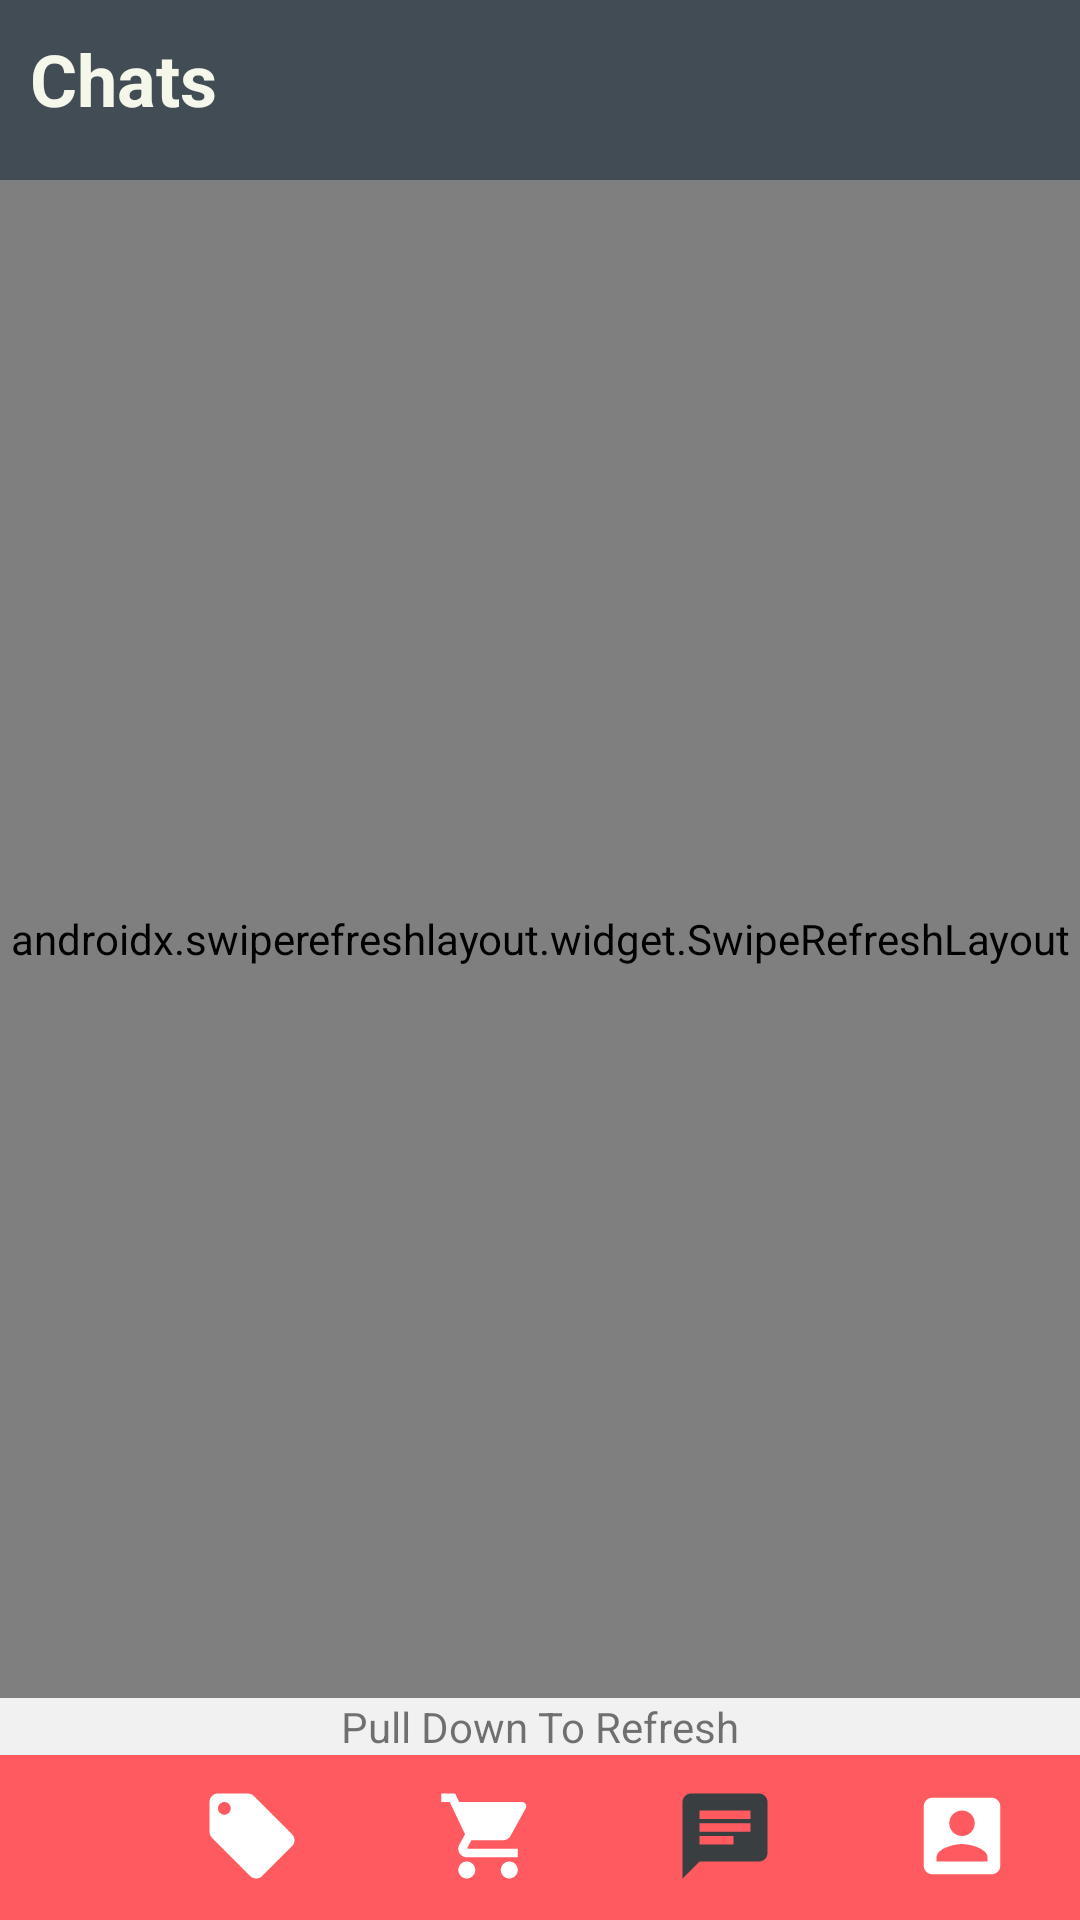

Screen size 1080×1920. Icon name, then its center in pixels as (x=x, y=y):
account box: (x=962, y=1836)
chat: (x=725, y=1836)
selling: (x=252, y=1836)
shopping cart: (x=484, y=1836)
